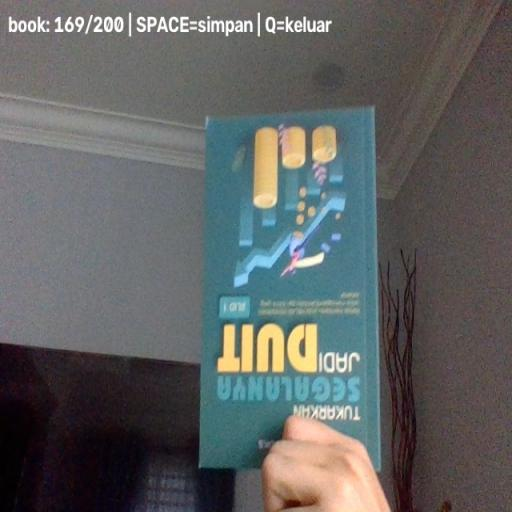Book: (198, 106, 382, 472)
